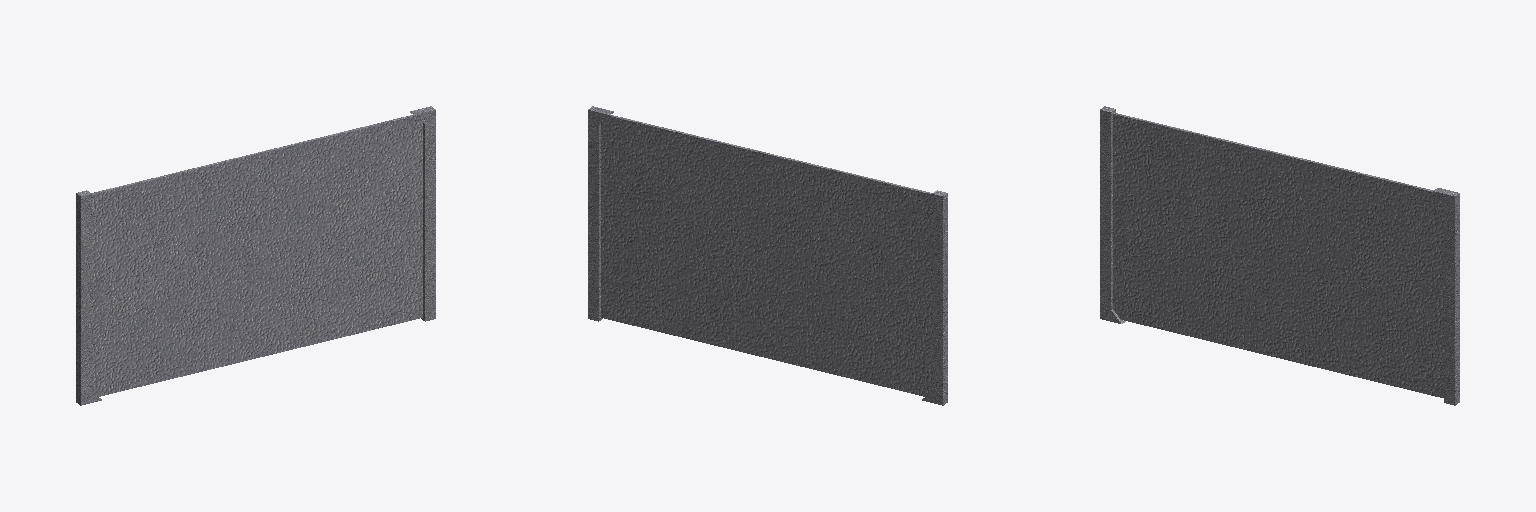
3 views of the same model, side by side, from view 1: azimuth 30°, elevation 25°; view 2: azimuth 150°, elevation 25°; view 3: azimuth 330°, elevation 25° (orthographic).
Parts seen in each view (by area): view 1: screen_Cube.001, handles_Cube.002; view 2: screen_Cube.001, handles_Cube.002; view 3: screen_Cube.001, handles_Cube.002.
Boxes of the visible parts, x1=… form: screen_Cube.001: x1=91, y1=115, x2=422, y2=396; handles_Cube.002: x1=76, y1=106, x2=435, y2=405; screen_Cube.001: x1=601, y1=115, x2=932, y2=396; handles_Cube.002: x1=588, y1=106, x2=947, y2=405; screen_Cube.001: x1=1113, y1=113, x2=1443, y2=397; handles_Cube.002: x1=1100, y1=106, x2=1459, y2=405.
Size of the model in its own units: 480 by 270 by 11.25.
Materials: 2 (1 with a texture image).